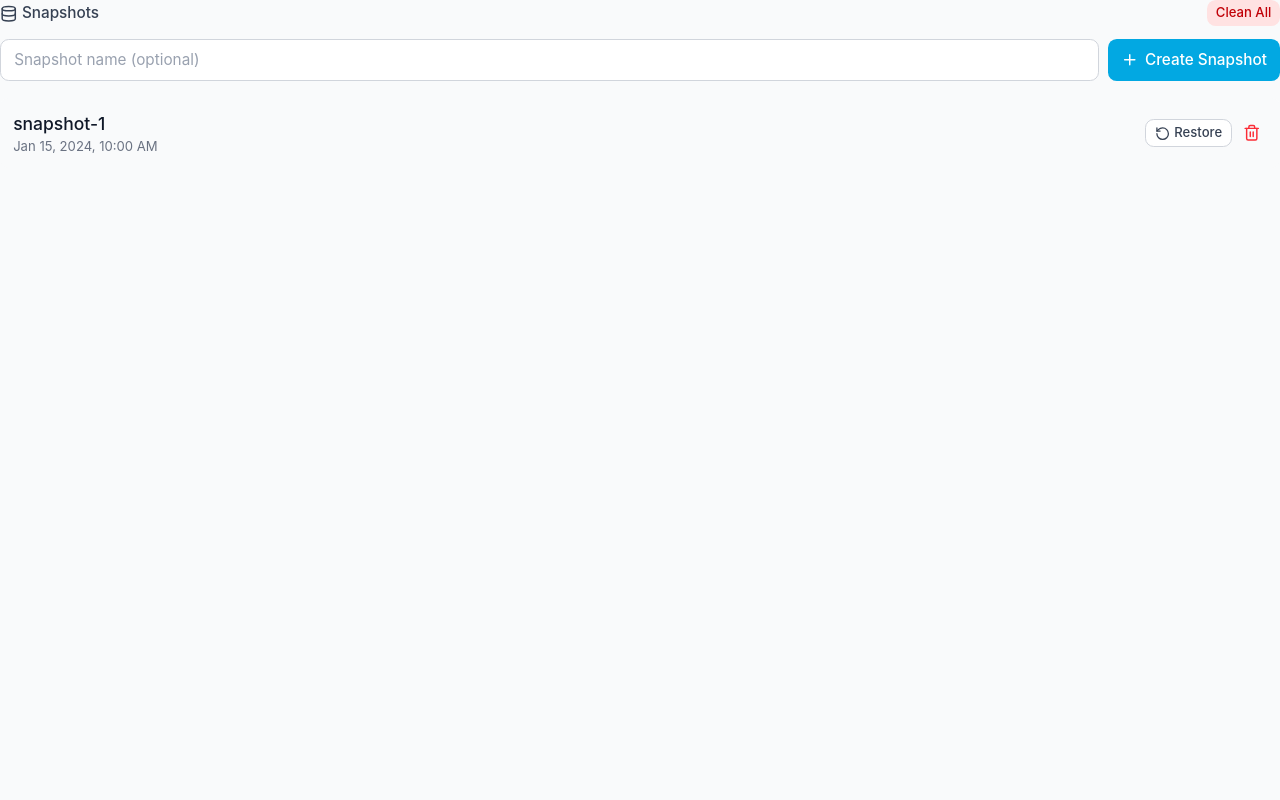
Scenario: SnapshotsSection › delete snapshot › should show delete confirmation dialog
Expected: the text "snapshot-1" is shown, [13,113,105,134]
Click the button titled "Delete snapshot" at (1252, 133), box [1236,118,1267,148]
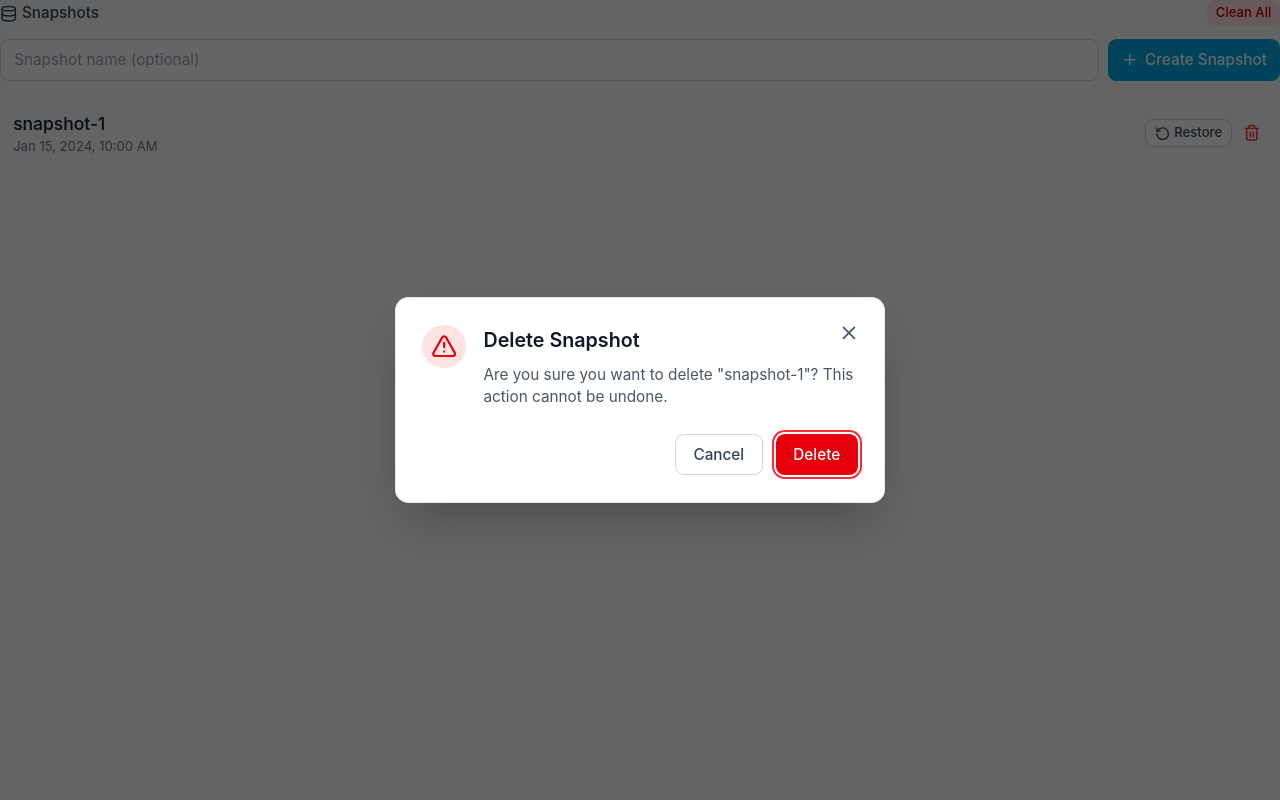
Result: the heading "Delete Snapshot" is shown at [484,328,640,352]
Result: the text "Are you sure you want to delete \"snapshot-1\"" is shown at [484,365,853,406]
